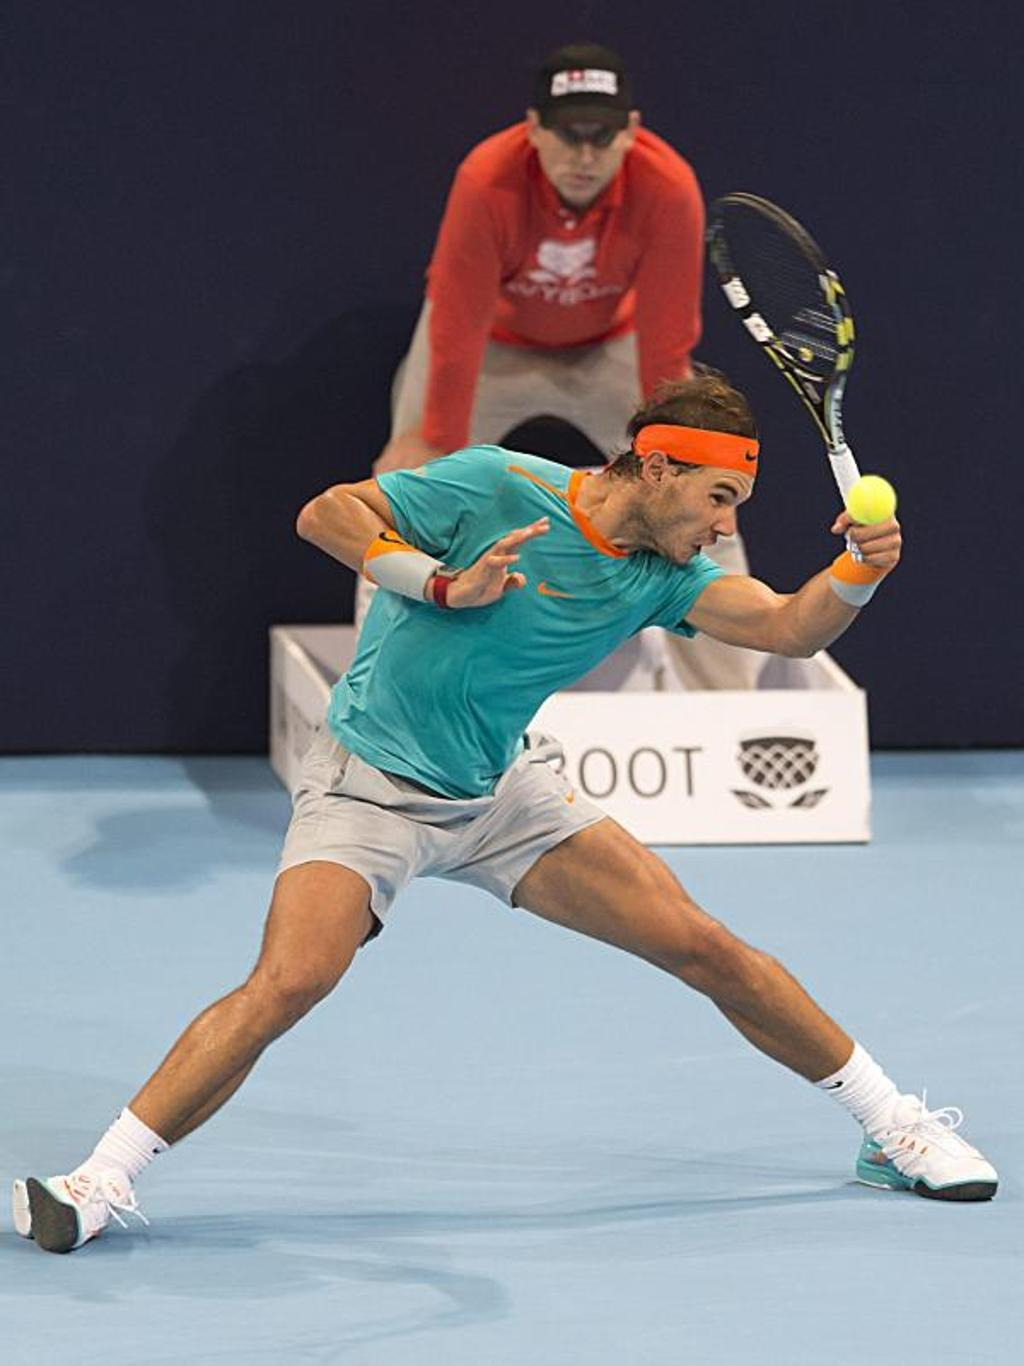face: (669, 448, 754, 568), (541, 104, 629, 205)
